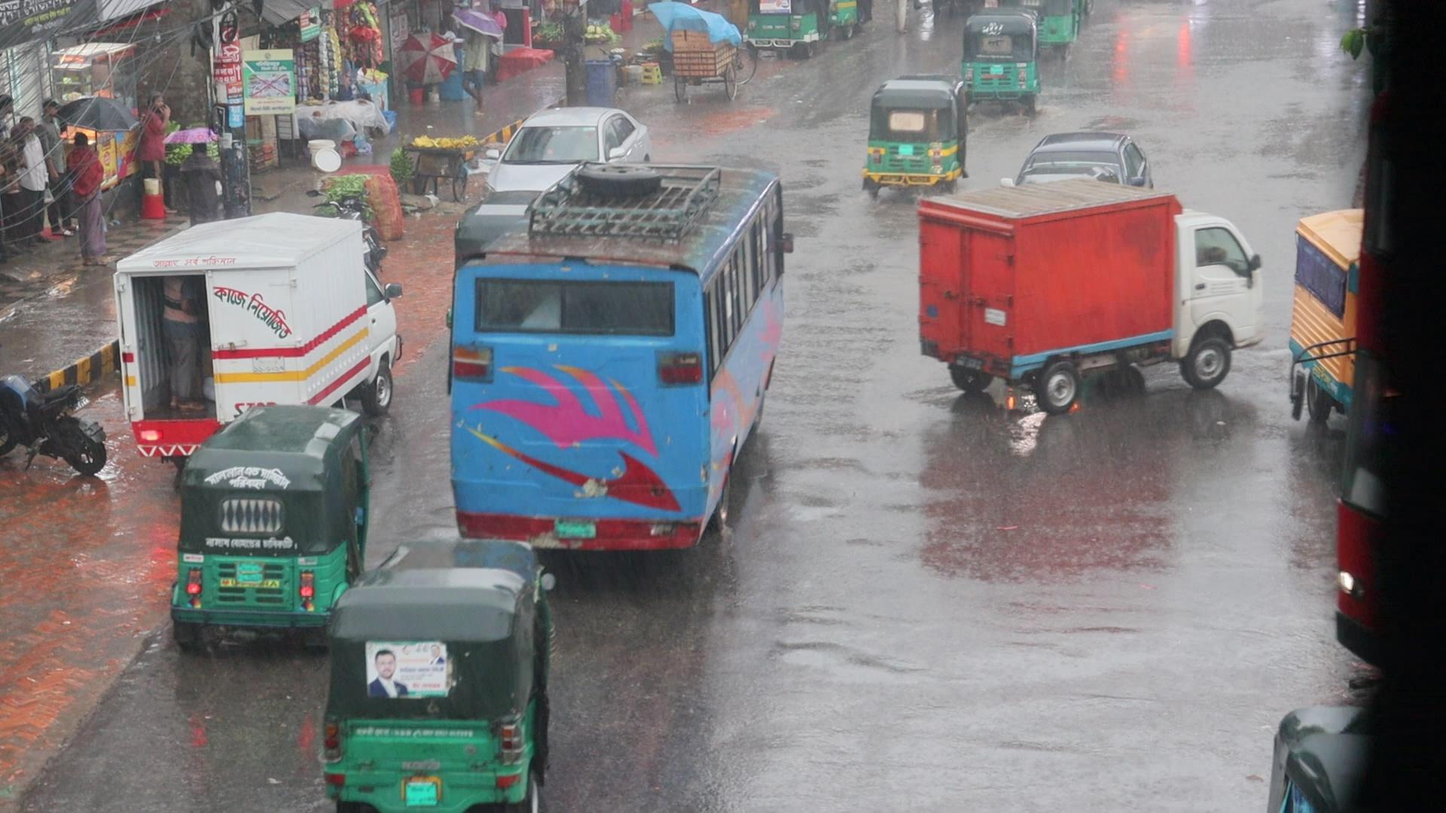Bus: (446, 158, 795, 548)
Truck: (913, 175, 1264, 410)
